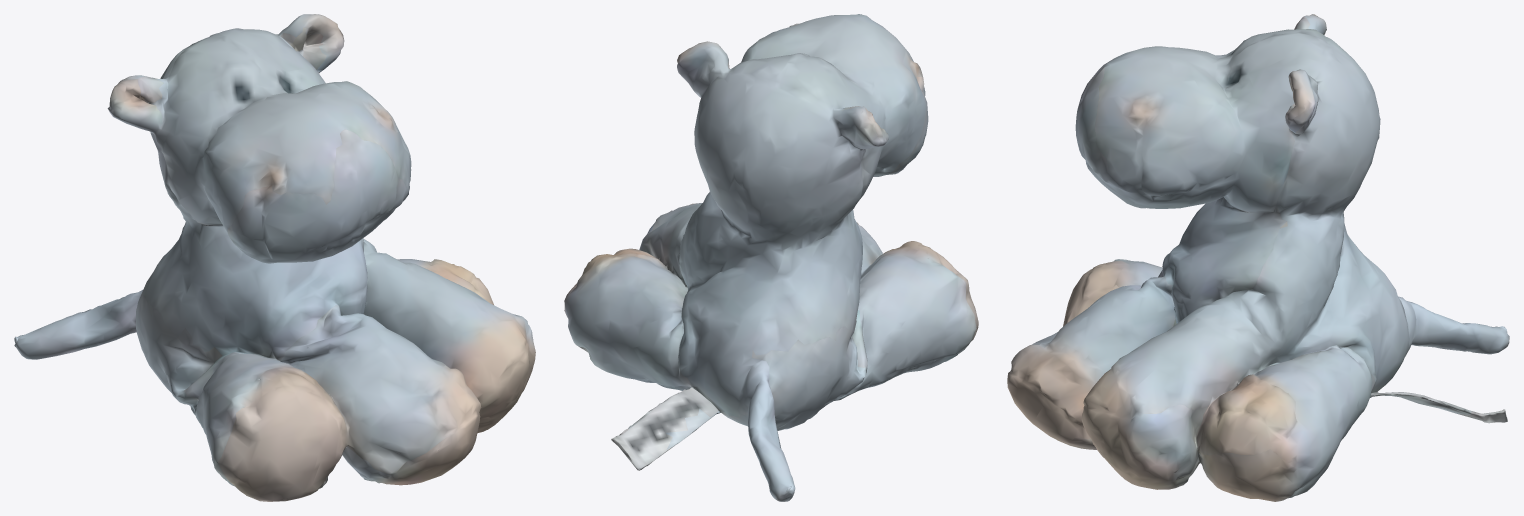
The model's file is Ortho_Forward_Facing_3Q6J2oKJD92-high.glb.
The picture shows the model from 3 angles, left to right: view 1: azimuth 30°, elevation 25°; view 2: azimuth 150°, elevation 25°; view 3: azimuth 270°, elevation 25°; orthographic projection. The views are drawn at different scales.
Parts seen in each view (by area): view 1: Ortho_Forward_Facing_3Q6J2oKJD92; view 2: Ortho_Forward_Facing_3Q6J2oKJD92; view 3: Ortho_Forward_Facing_3Q6J2oKJD92.
Boxes of the visible parts, x1,y1,x2,y2 form: Ortho_Forward_Facing_3Q6J2oKJD92: [14, 14, 535, 501]; Ortho_Forward_Facing_3Q6J2oKJD92: [564, 14, 978, 501]; Ortho_Forward_Facing_3Q6J2oKJD92: [1007, 14, 1509, 501].
Bounding box in the file's own units: 0.1941 × 0.1959 × 0.2437.
1 material, 1 textured.
